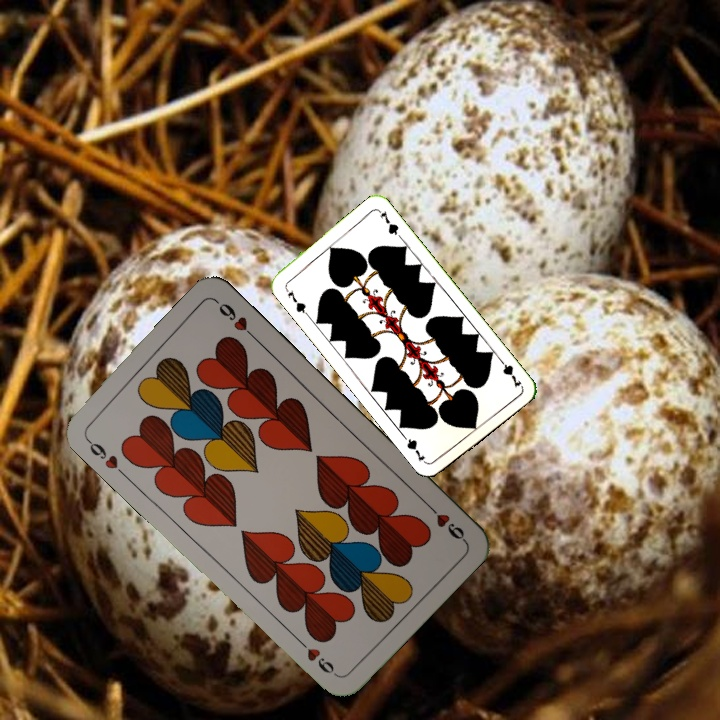G7: (494, 354, 524, 390), (281, 283, 310, 318)
H9: (421, 498, 468, 544), (81, 433, 128, 479)
